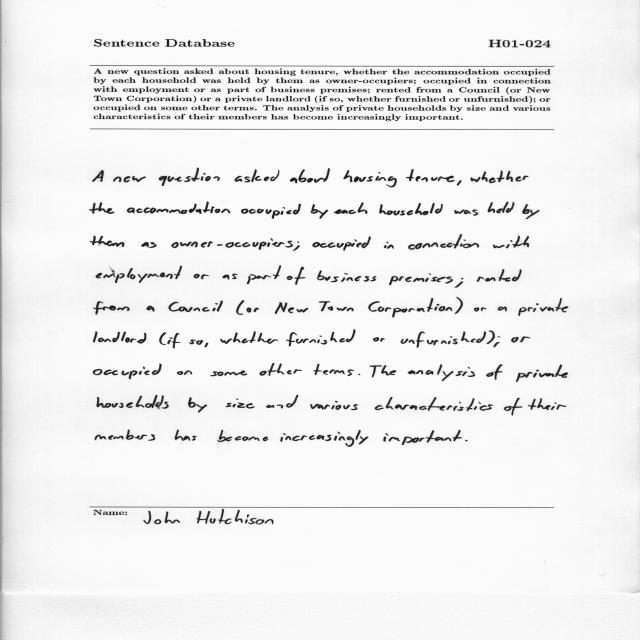word: (368, 297, 463, 318), (375, 397, 493, 411), (281, 430, 369, 447), (171, 238, 293, 250), (96, 266, 182, 283), (401, 331, 486, 348), (127, 202, 230, 214), (286, 330, 355, 347), (384, 430, 462, 445), (408, 365, 475, 382), (408, 234, 479, 250), (159, 168, 220, 186), (93, 364, 162, 379), (97, 395, 169, 409), (516, 364, 568, 382), (343, 171, 397, 188), (518, 298, 569, 316), (241, 204, 301, 219), (312, 236, 371, 251), (379, 203, 443, 215), (471, 171, 529, 184), (220, 331, 278, 344), (317, 271, 376, 283), (389, 274, 453, 285), (95, 430, 155, 441), (247, 266, 281, 285), (406, 169, 455, 182), (94, 332, 147, 344), (218, 430, 269, 442), (168, 301, 223, 312), (290, 168, 330, 183), (235, 170, 280, 183), (477, 269, 522, 282), (259, 363, 302, 376), (94, 301, 130, 315), (313, 364, 354, 376), (493, 236, 529, 249), (528, 398, 566, 410), (266, 395, 298, 409), (310, 401, 358, 410), (334, 202, 367, 214), (275, 302, 308, 314), (90, 236, 125, 247), (370, 365, 397, 378), (319, 302, 354, 312), (287, 267, 305, 285), (504, 398, 522, 415), (90, 202, 115, 214), (488, 202, 515, 213), (226, 399, 255, 409), (188, 398, 207, 413), (486, 364, 503, 380), (522, 204, 540, 219), (311, 204, 328, 219), (175, 430, 197, 441), (210, 371, 248, 377), (167, 333, 181, 348), (113, 176, 146, 182), (455, 209, 479, 216), (92, 170, 104, 182), (236, 300, 245, 315), (486, 330, 495, 344), (511, 337, 530, 343), (141, 242, 157, 248), (160, 332, 167, 345), (194, 274, 209, 280), (223, 274, 238, 280), (190, 339, 204, 345), (455, 278, 463, 288), (493, 337, 500, 348), (293, 241, 300, 251), (384, 242, 394, 249), (247, 308, 259, 313), (373, 337, 385, 342), (177, 371, 192, 375), (147, 306, 155, 312), (498, 307, 507, 312), (457, 180, 462, 186), (474, 308, 479, 312), (481, 307, 486, 311), (205, 343, 209, 347), (465, 440, 468, 441), (359, 374, 361, 375)
